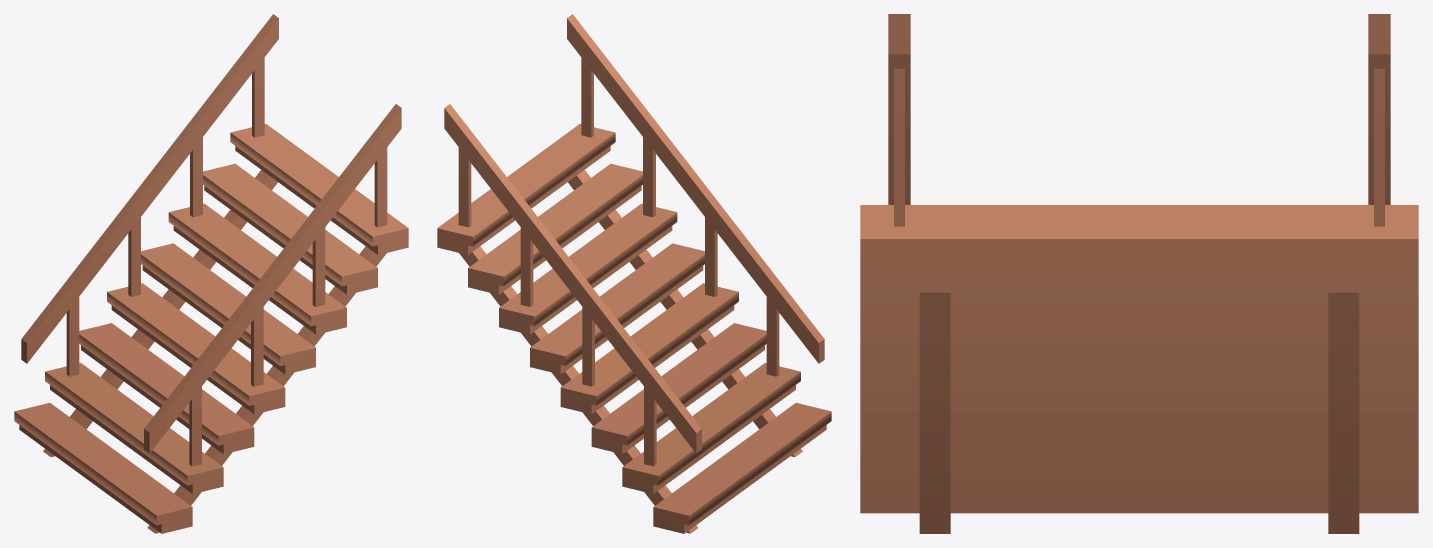
Rendered from kenney-fantasy-town-stairs-wide-wood-handrail.glb.
The picture shows the model from 3 angles, left to right: view 1: azimuth 30°, elevation 25°; view 2: azimuth 150°, elevation 25°; view 3: azimuth 270°, elevation 25°; orthographic projection. The views are drawn at different scales.
Visible parts, largest first — view 1: stairs-wide-wood-handrail; view 2: stairs-wide-wood-handrail; view 3: stairs-wide-wood-handrail.
Boxes of the visible parts, left/top/right/bottom form: stairs-wide-wood-handrail: left=14, top=14, right=408, bottom=533; stairs-wide-wood-handrail: left=437, top=14, right=831, bottom=533; stairs-wide-wood-handrail: left=860, top=14, right=1418, bottom=533.
Bounding box in the file's own units: 1.02 × 1.45 × 1.
1 material, 1 textured.
